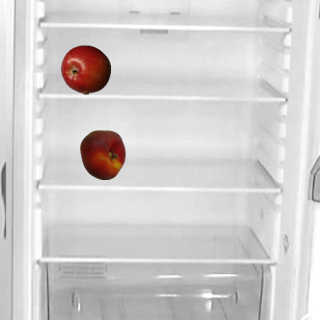Apple Braeburn: (60, 44, 110, 94)
Nectarine Flat: (77, 129, 127, 179)
